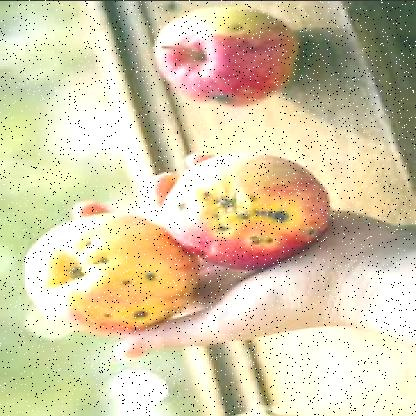damaged_apple: (159, 153, 325, 269), (22, 215, 184, 333), (154, 1, 300, 103)
